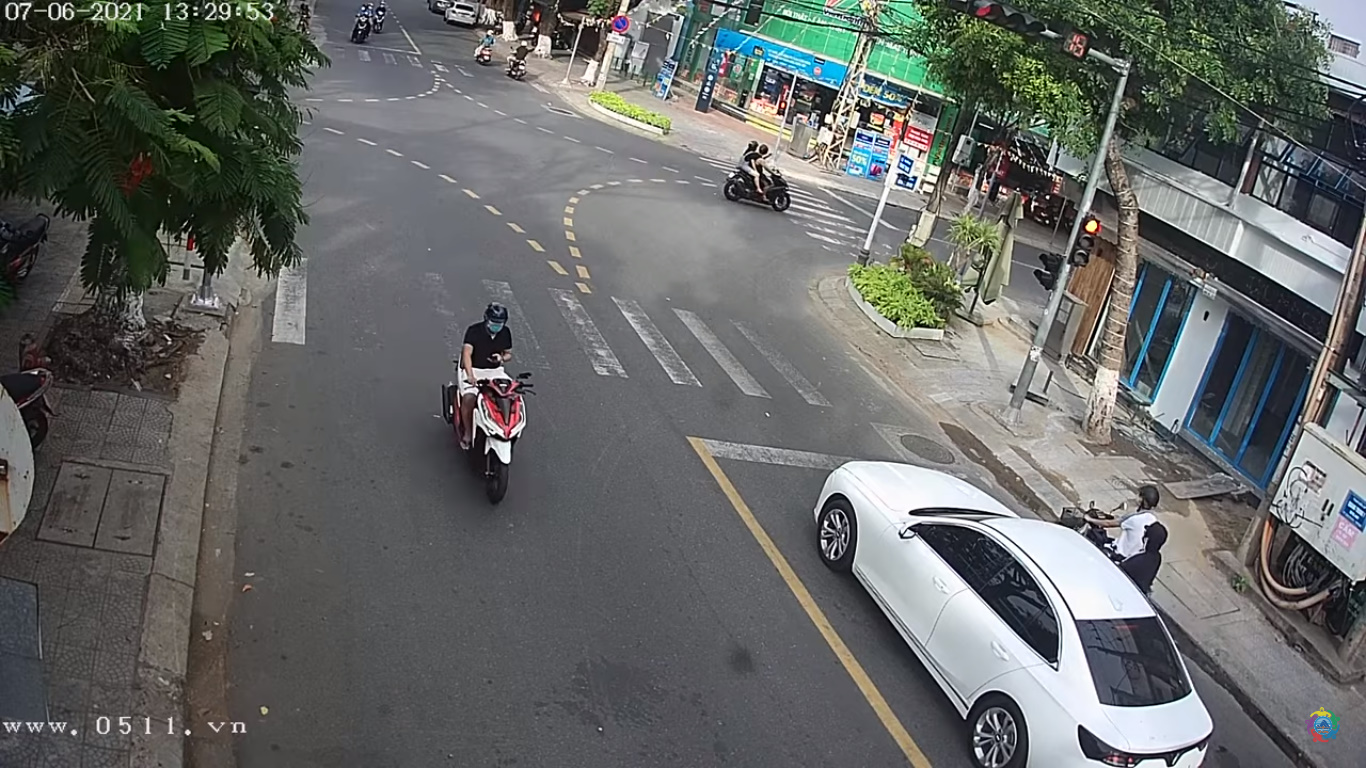motorbike: (440, 306, 543, 498)
